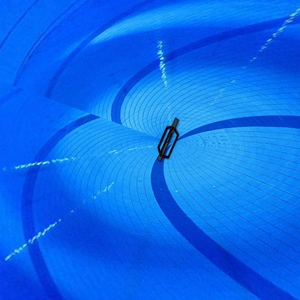submarine: (157, 113, 187, 168)
